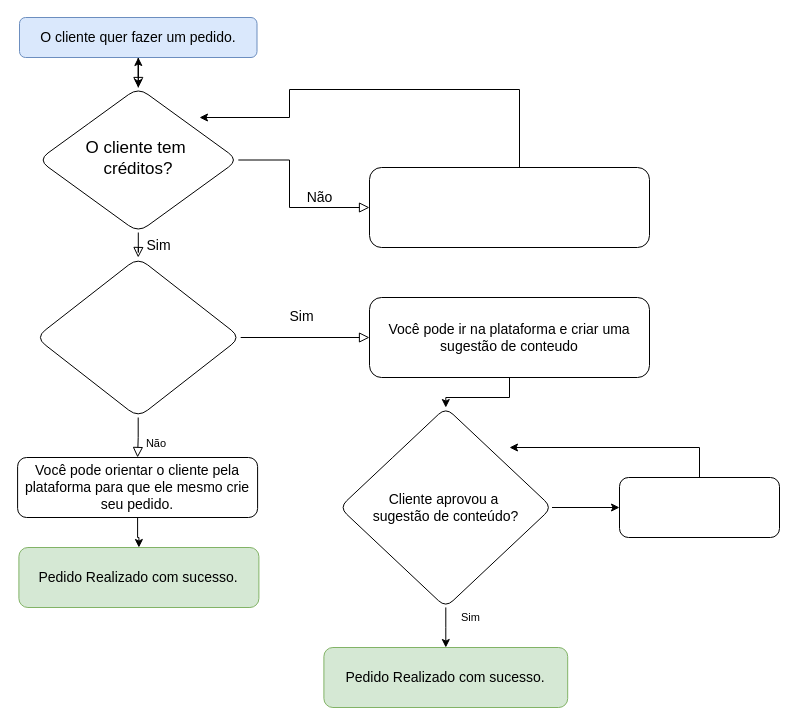
This 797x725 diagram has some shape labels left out. The box of each missing label's shape, as (x1, y1, x2, y2) in pixels:
O cliente gostaria de uma ajuda neste processo?: (35, 256, 241, 418)
O cliente pode editar a sugestão de conteúdo: (618, 476, 780, 538)
ver se o cliente já gastou todos os seus créditos e quando renova o plano dele: (368, 166, 650, 248)
